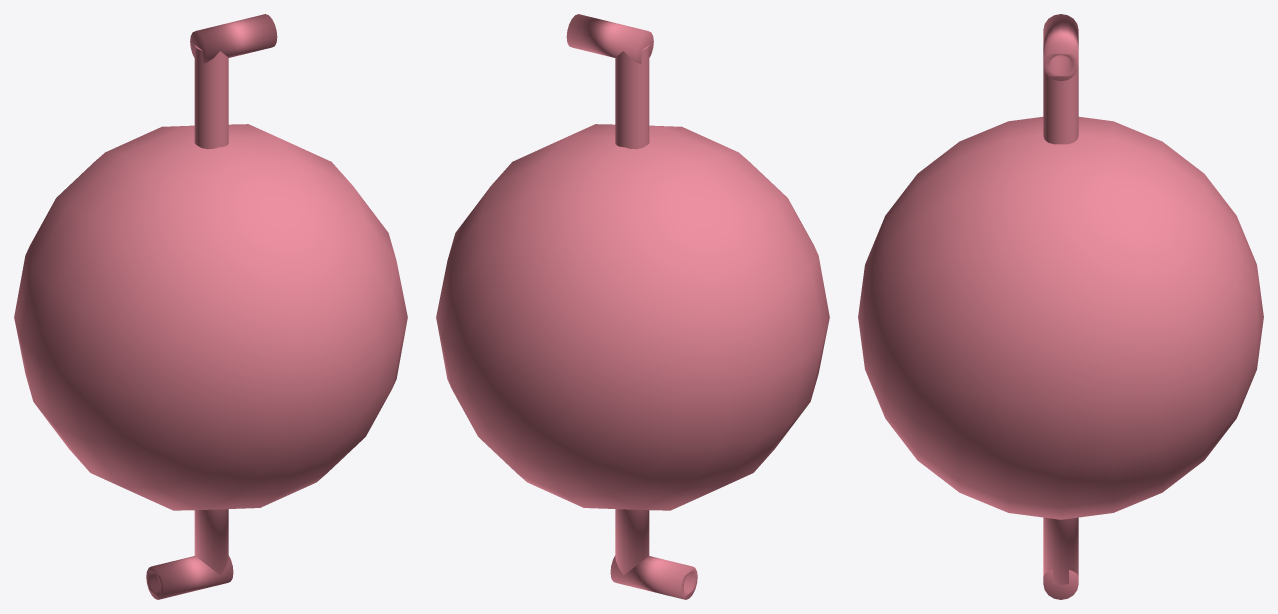
File: Aeolipile.obj
3 renders of one model, left to right at view 1: azimuth 30°, elevation 25°; view 2: azimuth 150°, elevation 25°; view 3: azimuth 270°, elevation 25°, orthographic. The views are drawn at different scales.
Parts seen in each view (by area): view 1: Aeolipile; view 2: Aeolipile; view 3: Aeolipile.
Boxes of the visible parts, <box> form: Aeolipile: <box>14,14,407,599</box>; Aeolipile: <box>436,14,829,599</box>; Aeolipile: <box>858,14,1263,599</box>.
Bounding box in the file's own units: 0.8132 × 1.27 × 0.8132.
